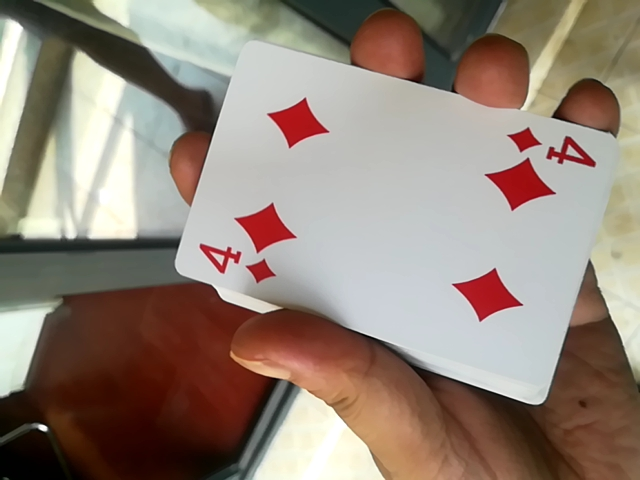fk 4: (135, 42, 636, 390)
